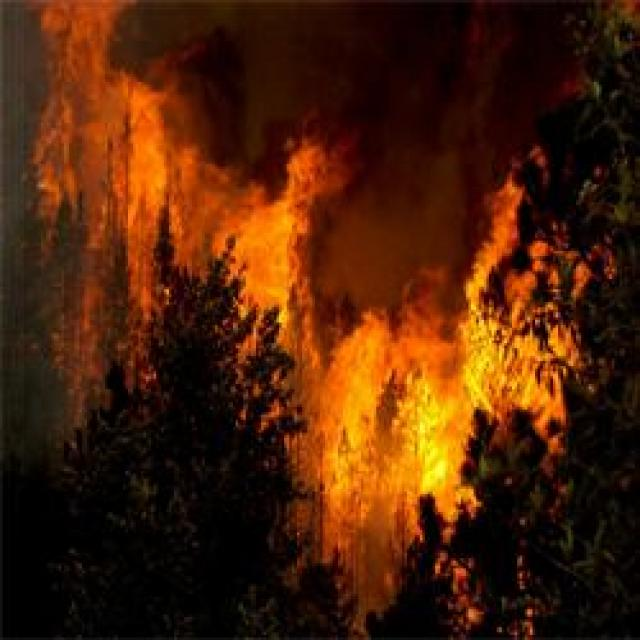Fire: (24, 9, 565, 598)
